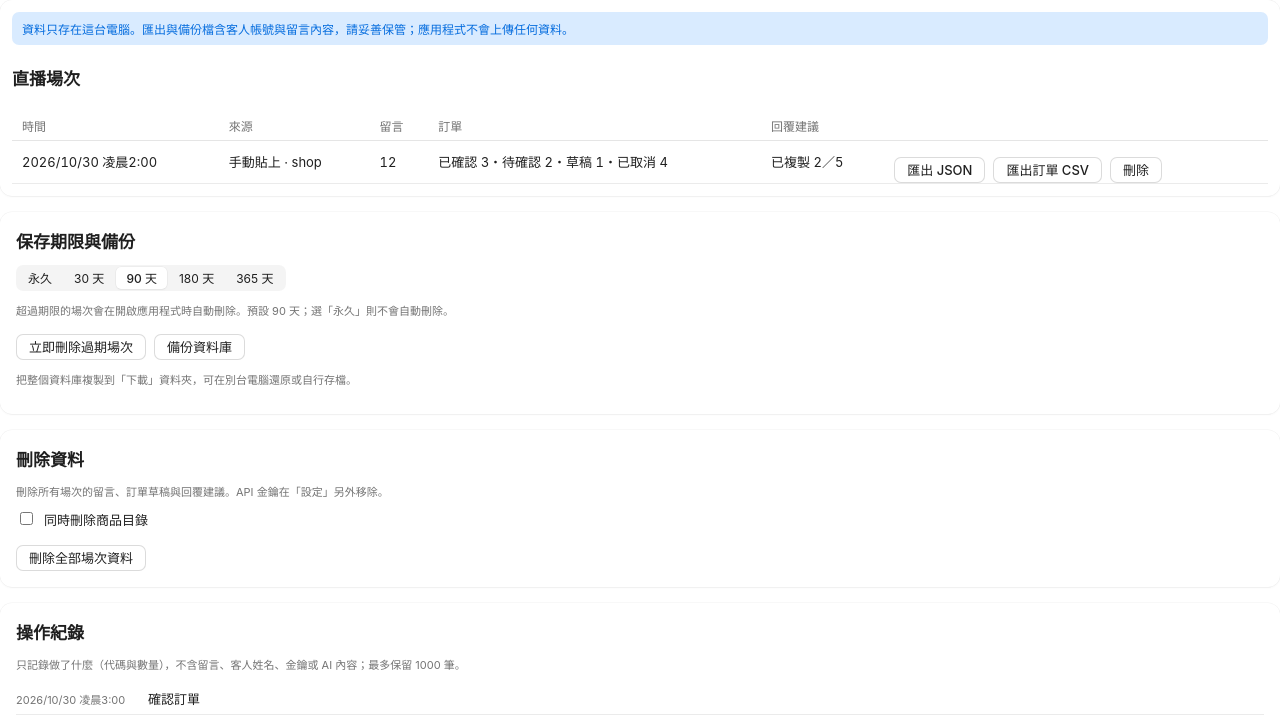
Test: Report page › says so when an action fails and does not claim success
Click the button "匯出 JSON" at (940, 170), box [894,156,985,182]
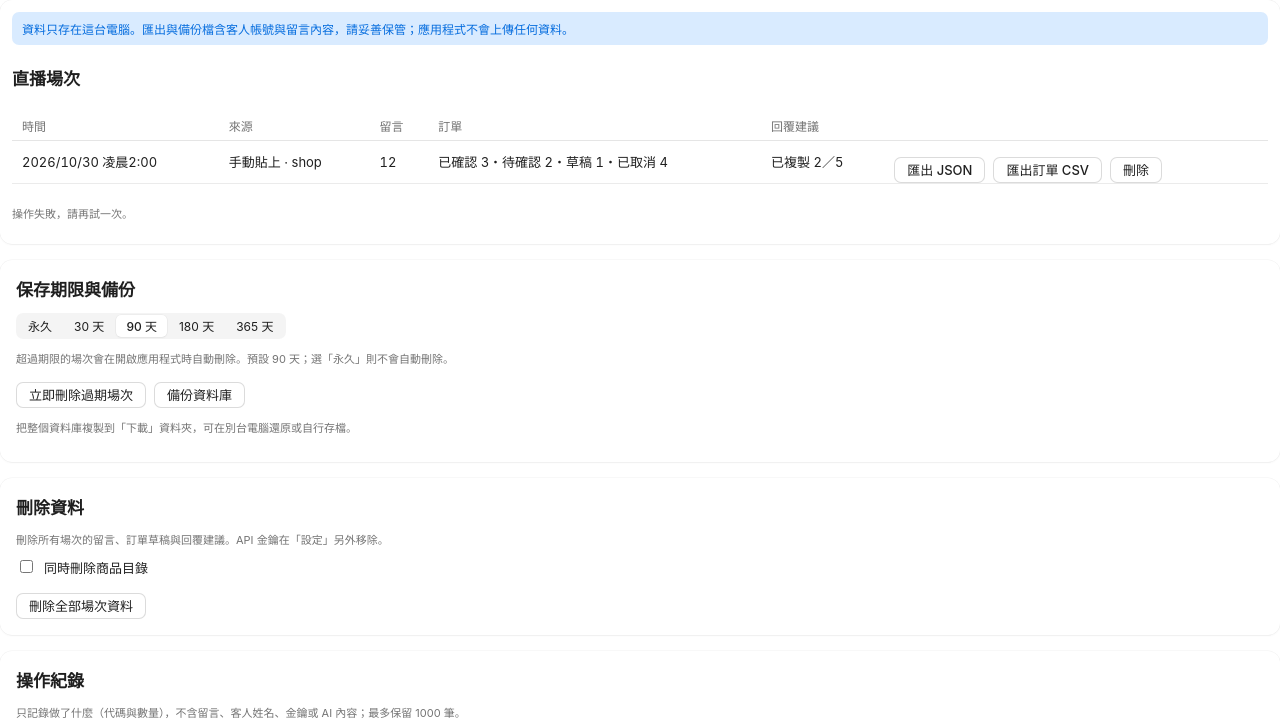
Expected: the message reads "操作失敗，請再試一次。", [12,206,133,220]
